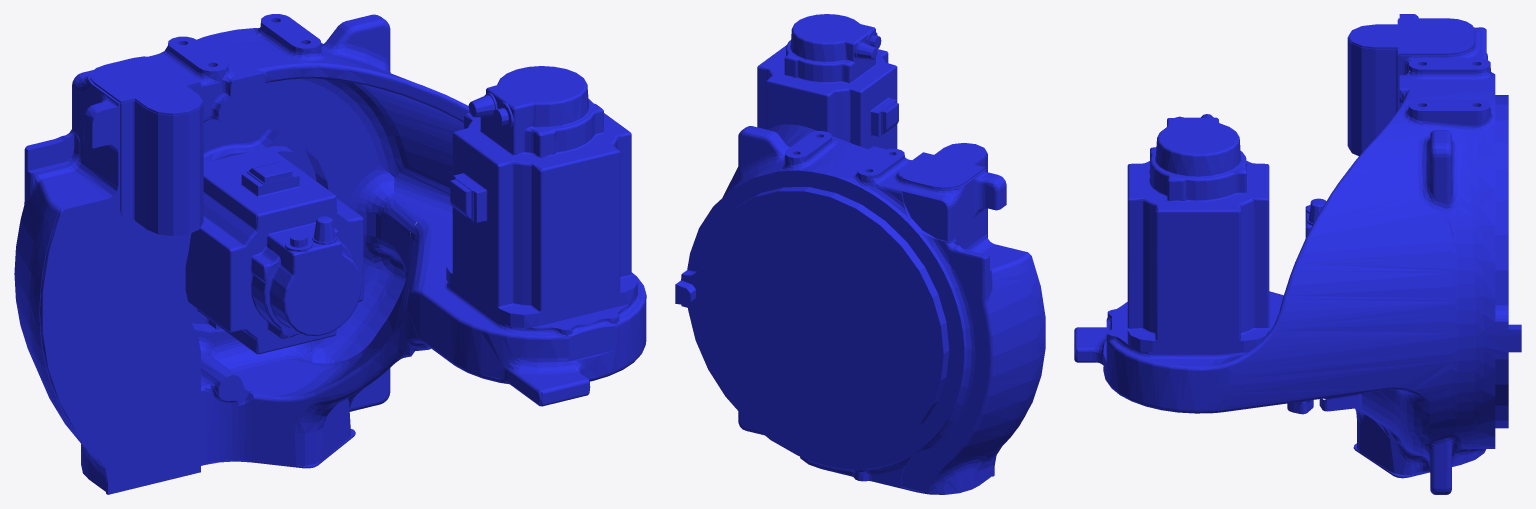
The picture shows the model from 3 angles, left to right: view 1: azimuth 30°, elevation 25°; view 2: azimuth 150°, elevation 25°; view 3: azimuth 270°, elevation 25°; orthographic projection. The views are drawn at different scales.
Visible parts, largest first — view 1: /Link1/Link1_005-mesh/0; view 2: /Link1/Link1_005-mesh/0; view 3: /Link1/Link1_005-mesh/0.
Boxes of the visible parts, x1=… form: /Link1/Link1_005-mesh/0: x1=14, y1=14, x2=646, y2=494; /Link1/Link1_005-mesh/0: x1=675, y1=14, x2=1045, y2=494; /Link1/Link1_005-mesh/0: x1=1074, y1=14, x2=1521, y2=494.
Bounding box in the file's own units: 0.466 × 0.3815 × 0.411.
